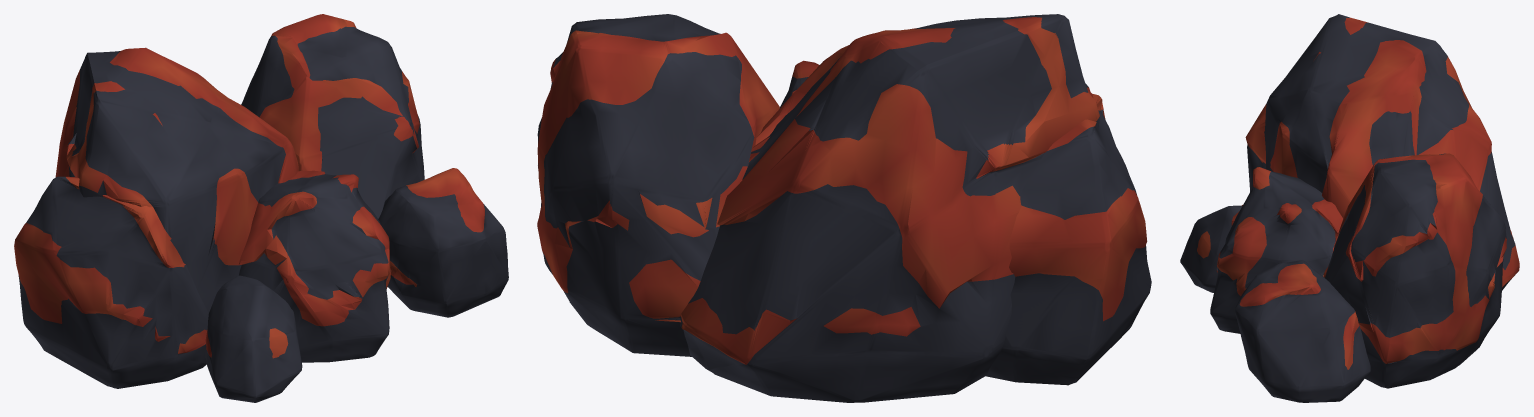
Rendered from corealm_ore_emberite.glb.
The picture shows the model from 3 angles, left to right: view 1: azimuth 30°, elevation 25°; view 2: azimuth 150°, elevation 25°; view 3: azimuth 270°, elevation 25°; orthographic projection. The views are drawn at different scales.
Visible parts, largest first — view 1: corealm_ore_emberite; view 2: corealm_ore_emberite; view 3: corealm_ore_emberite.
Part boxes in pixels (x1,y1,x2,y2): corealm_ore_emberite: [14, 14, 508, 402]; corealm_ore_emberite: [537, 14, 1151, 402]; corealm_ore_emberite: [1180, 14, 1519, 402].
Size of the model in its own units: 1.58 by 0.89 by 1.2.
